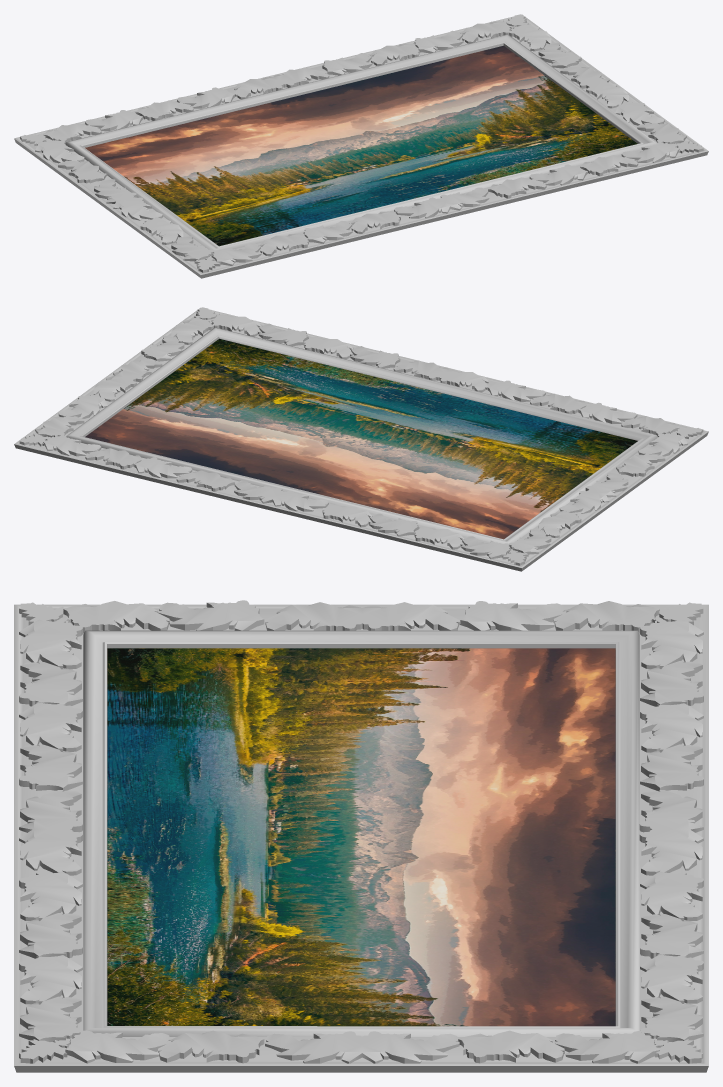
File: picture_1.fbx
3 views of the same model, one above another, from view 1: azimuth 30°, elevation 25°; view 2: azimuth 150°, elevation 25°; view 3: azimuth 270°, elevation 25° (orthographic). The views are drawn at different scales.
Parts seen in each view (by area): view 1: picture; view 2: picture; view 3: picture.
Boxes of the visible parts, left/top/right/bottom form: picture: left=14, top=14, right=708, bottom=278; picture: left=14, top=307, right=708, bottom=571; picture: left=14, top=600, right=708, bottom=1072.
Bounding box in the file's own units: 82.53 × 1.18 × 52.58.
